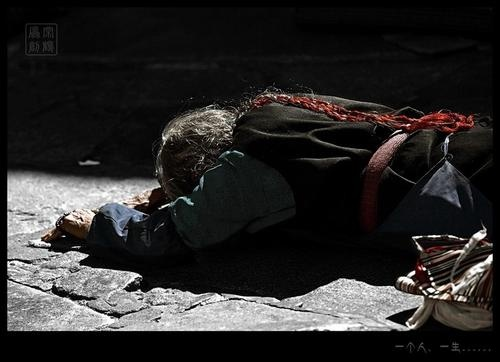falling: (47, 80, 491, 283)
